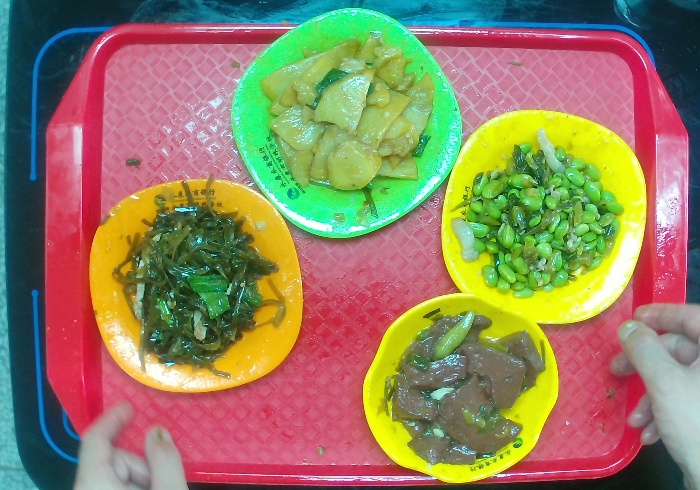YKMZ-Huang_Se_Ao_Bian_Wan: (360, 294, 565, 488)
YKMZ-Huang_Se_Fang_Die: (442, 104, 646, 328)
YKMZ-Ju_Se_Fang_Die: (90, 173, 309, 399)
YKMZ-Lv_Se_Fang_Die: (228, 7, 462, 238)
